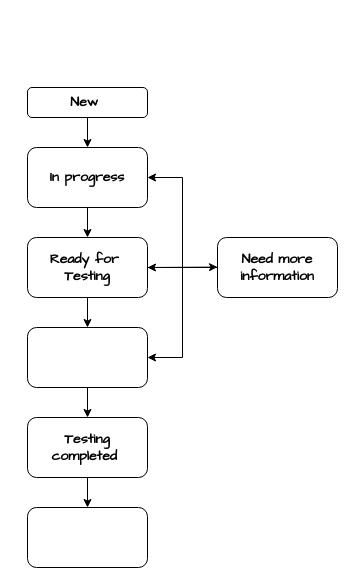
Image size: 355x585. Some labels were removed from this diagram. The centre of each missing label's shape, as x and y in pixels:
Closed: the point at 87,537
Testing in progress: the point at 87,357
